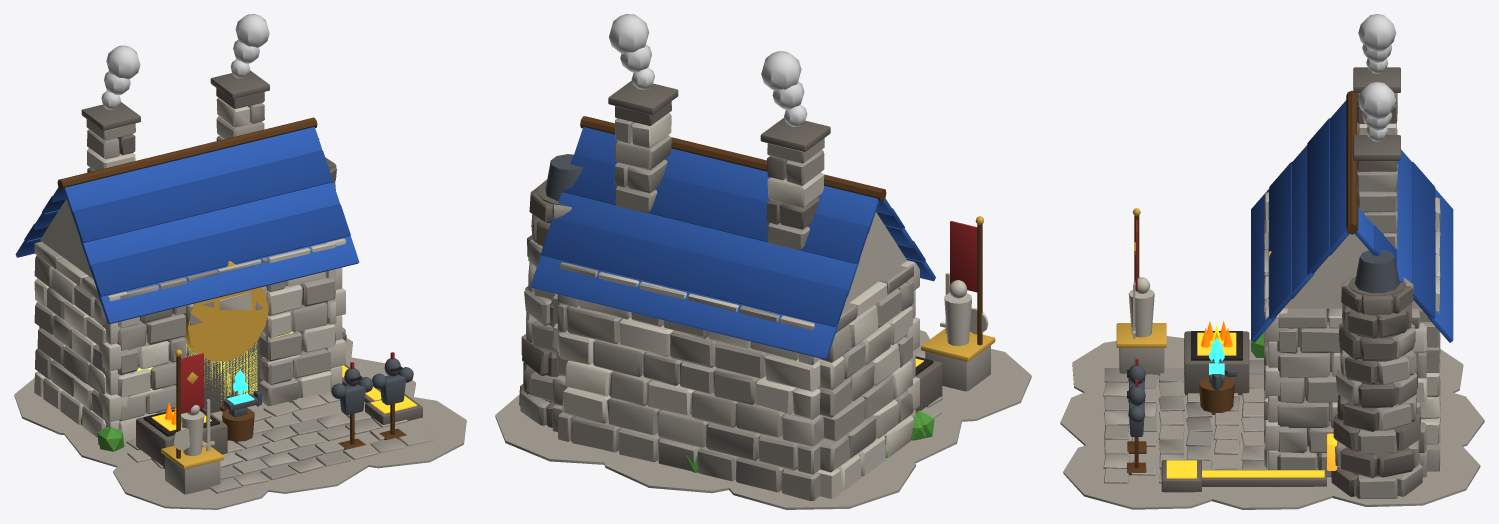
The model's file is kuznia_poz19.glb.
3 views of the same model, side by side, from view 1: azimuth 30°, elevation 25°; view 2: azimuth 150°, elevation 25°; view 3: azimuth 270°, elevation 25° (orthographic). The views are drawn at different scales.
Visible parts, largest first — view 1: kuznia_poz19; view 2: kuznia_poz19; view 3: kuznia_poz19.
Boxes of the visible parts, box(x1,y1,x2,y2) form: kuznia_poz19: box(14, 14, 466, 509); kuznia_poz19: box(495, 14, 1031, 509); kuznia_poz19: box(1060, 14, 1484, 509).
Bounding box in the file's own units: 8.18 × 8.37 × 8.46.
